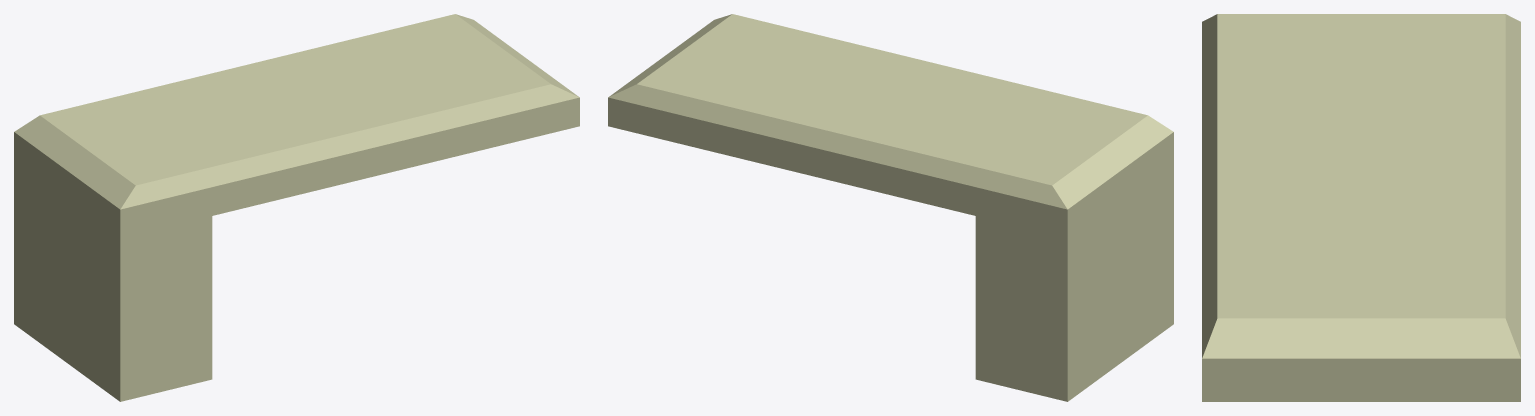
File: table.fbx
3 views of the same model, side by side, from view 1: azimuth 30°, elevation 25°; view 2: azimuth 150°, elevation 25°; view 3: azimuth 270°, elevation 25° (orthographic). The views are drawn at different scales.
Parts seen in each view (by area): view 1: table; view 2: table; view 3: table.
Boxes of the visible parts, x1,y1,x2,y2 form: table: (14,14,579,401); table: (608,14,1173,401); table: (1202,14,1520,401).
Size of the model in its own units: 5 by 2 by 2.16.
